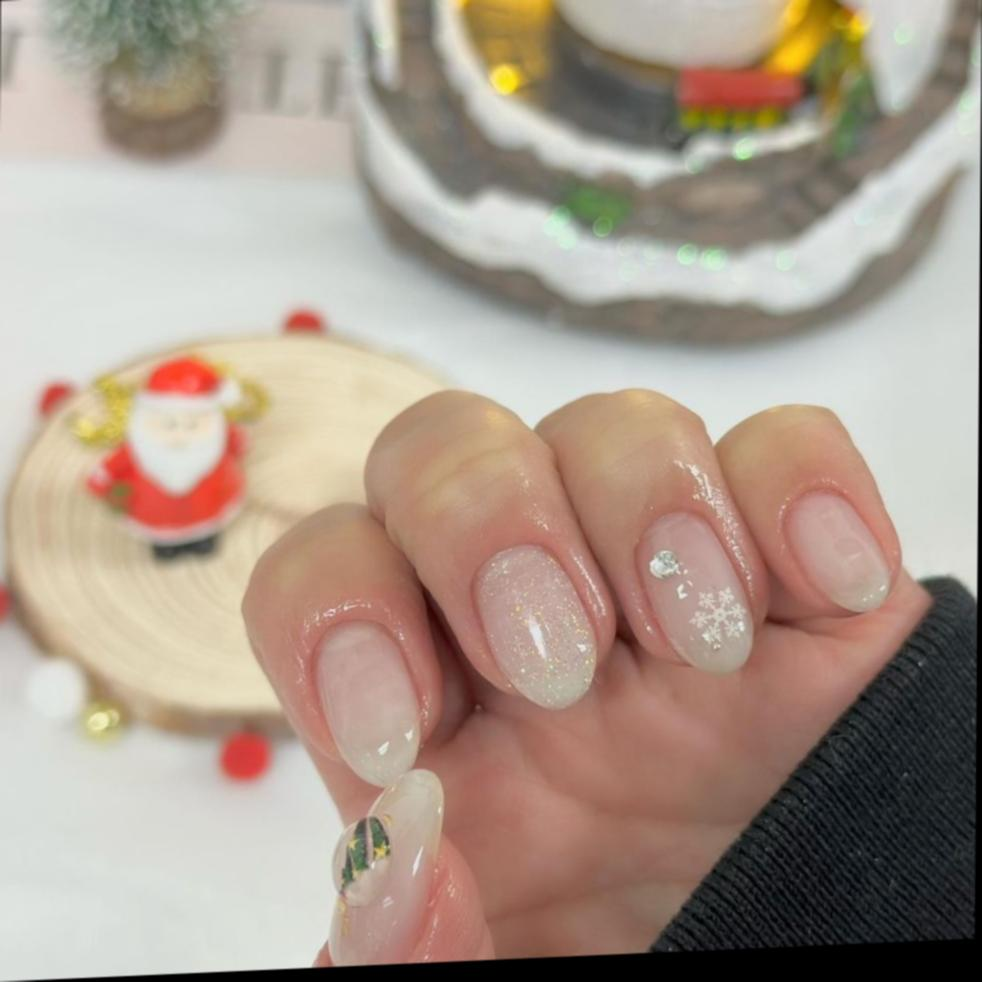nail: (326, 765, 446, 967), (470, 537, 600, 713), (632, 503, 757, 676), (310, 613, 426, 789), (778, 480, 894, 616)
